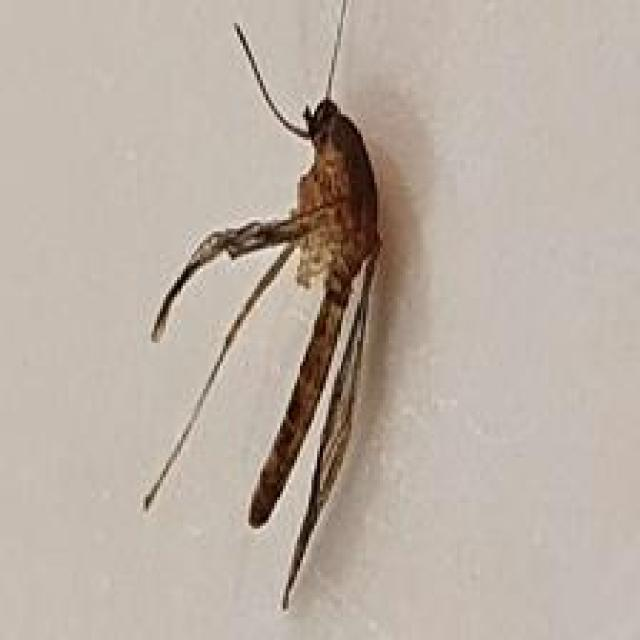Culex: (140, 0, 388, 611)
